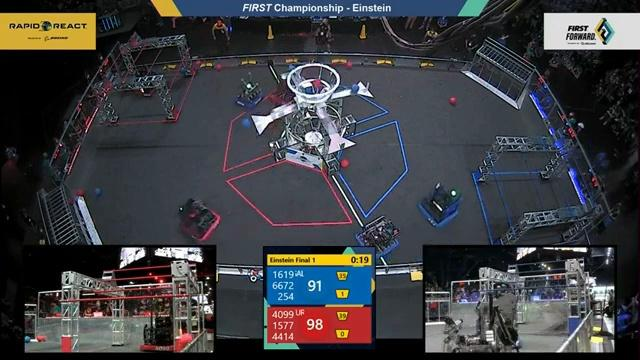robot: (176, 195, 223, 242), (418, 181, 464, 229), (353, 214, 402, 259), (140, 302, 174, 353), (231, 72, 266, 109), (132, 67, 157, 99)
